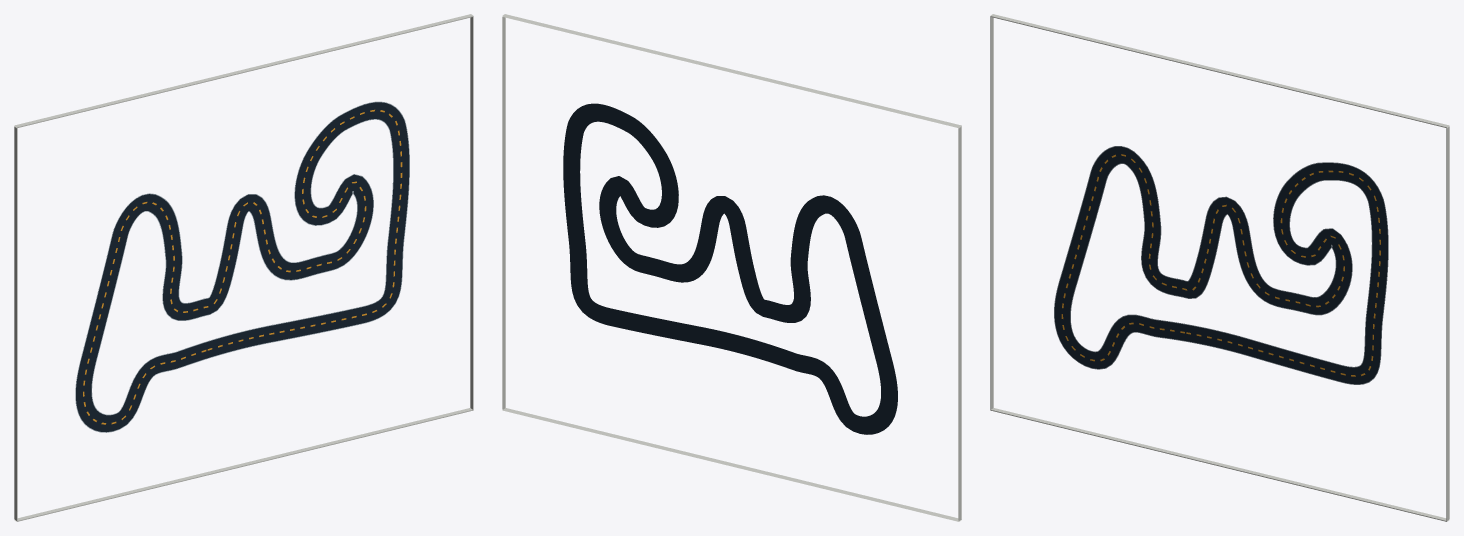
File: track.obj
The picture shows the model from 3 angles, left to right: view 1: azimuth 30°, elevation 25°; view 2: azimuth 150°, elevation 25°; view 3: azimuth 330°, elevation 25°; orthographic projection.
Bounding box in the file's own units: 28.82 × 23.78 × 0.3.
4 materials, 4 textured.
